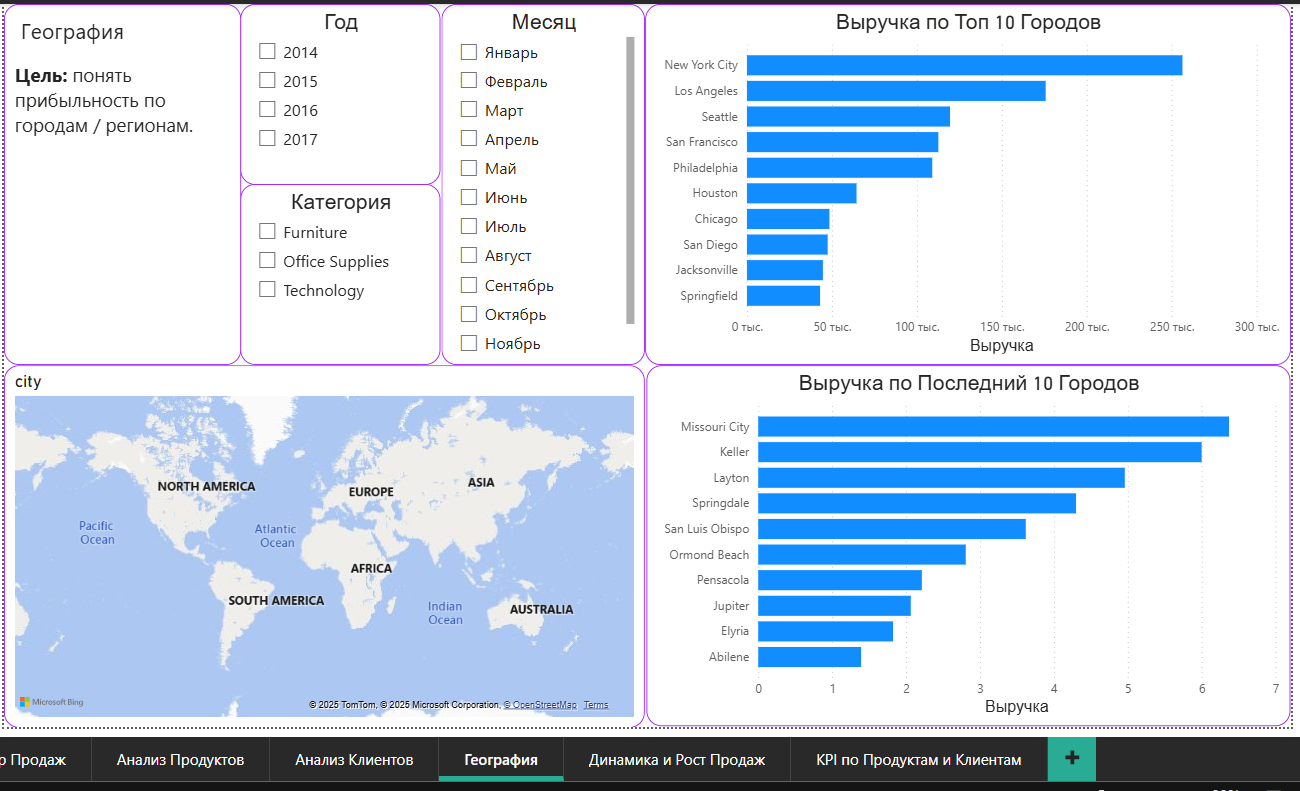

What the dashboard file says about the page in this screenshot:
{"tool":"powerbi","page":{"name":"География","canvas":[1280,720],"ordinal":3},"visuals":[{"type":"filledMap","fields":{"Category":["Ready - Superstore.city"]},"box":[0,359.2,637.7,360.9],"z":0},{"type":"clusteredBarChart","title":"Выручка по Топ 10 Городов","fields":{"Category":["Ready - Superstore.city"],"Y":["Meas.Выручка"]},"box":[638.1,0,642.2,359.5],"z":1000},{"type":"clusteredBarChart","title":"Выручка по Последний 10 Городов ","fields":{"Category":["Ready - Superstore.city"],"Y":["Meas.Выручка"]},"box":[639.5,359.5,640.8,359.5],"z":2000},{"type":"slicer","title":"Год","fields":{"Values":["Ready - Superstore.order_date.Изменение.Иерархия дат.Год"]},"box":[235.6,0,199.4,179.6],"z":3000},{"type":"slicer","title":"Категория","fields":{"Values":["Ready - Superstore.category"]},"box":[235.6,179.6,199.4,179.6],"z":4000},{"type":"slicer","title":"Месяц","fields":{"Values":["Ready - Superstore.order_date.Изменение.Иерархия дат.Месяц"]},"box":[435,0,202.7,359.2],"z":5000},{"type":"textbox","box":[0,0,235.6,359.2],"z":6000}]}

Visuals, with their boxes on the page's 1280x720 design canvas (x1, y1, x2, y2). These are canvas units, not pixel positions in the 1300x791 screenshot, which may show the page scaled, cropped or inside an application window:
filledMap - Ready - Superstore.city: l=0, t=359, r=638, b=720
"Выручка по Топ 10 Городов" clusteredBarChart: l=638, t=0, r=1280, b=360
"Выручка по Последний 10 Городов " clusteredBarChart: l=640, t=360, r=1280, b=719
"Год" slicer: l=236, t=0, r=435, b=180
"Категория" slicer: l=236, t=180, r=435, b=359
"Месяц" slicer: l=435, t=0, r=638, b=359
textbox: l=0, t=0, r=236, b=359
